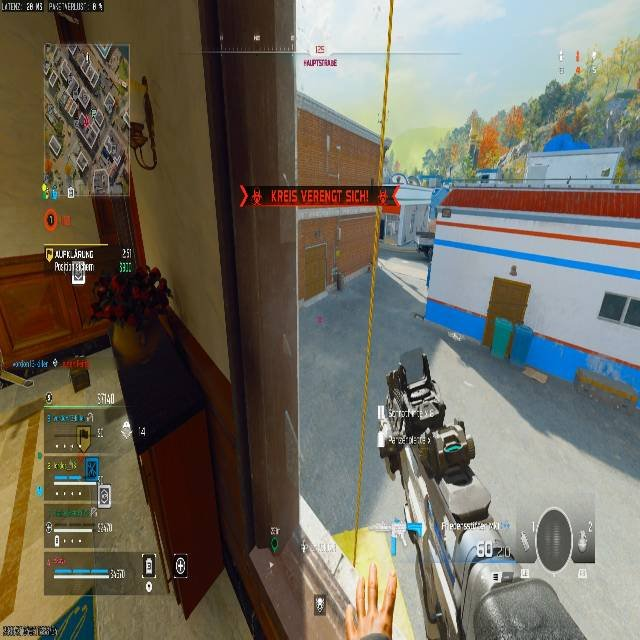player: (415, 226, 435, 264)
